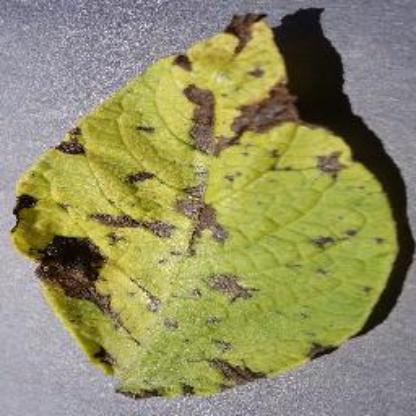Early-Blight: (8, 8, 416, 404)
